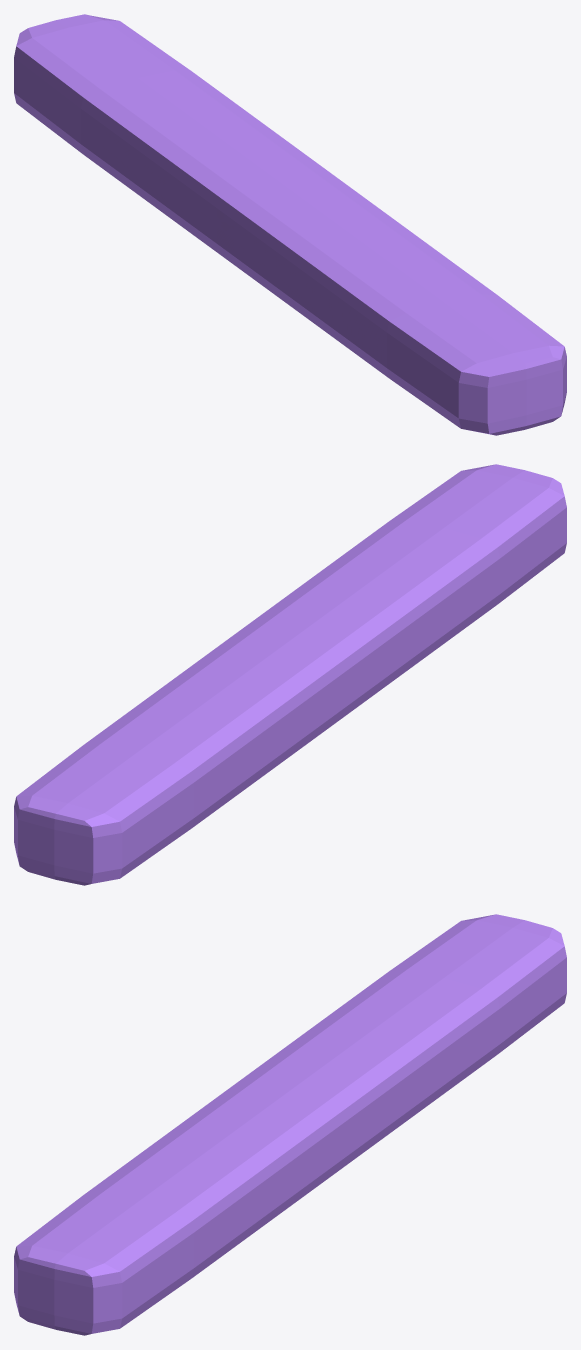
The model's file is barra 1.fbx.
The picture shows the model from 3 angles, top to bottom: view 1: azimuth 30°, elevation 25°; view 2: azimuth 150°, elevation 25°; view 3: azimuth 330°, elevation 25°; orthographic projection.
Visible parts, largest first — view 1: Cube; view 2: Cube; view 3: Cube.
Boxes of the visible parts, x1=… form: Cube: x1=14, y1=14, x2=566, y2=435; Cube: x1=14, y1=464, x2=566, y2=885; Cube: x1=14, y1=914, x2=566, y2=1335.
Bounding box in the file's own units: 120 × 70.42 × 866.
